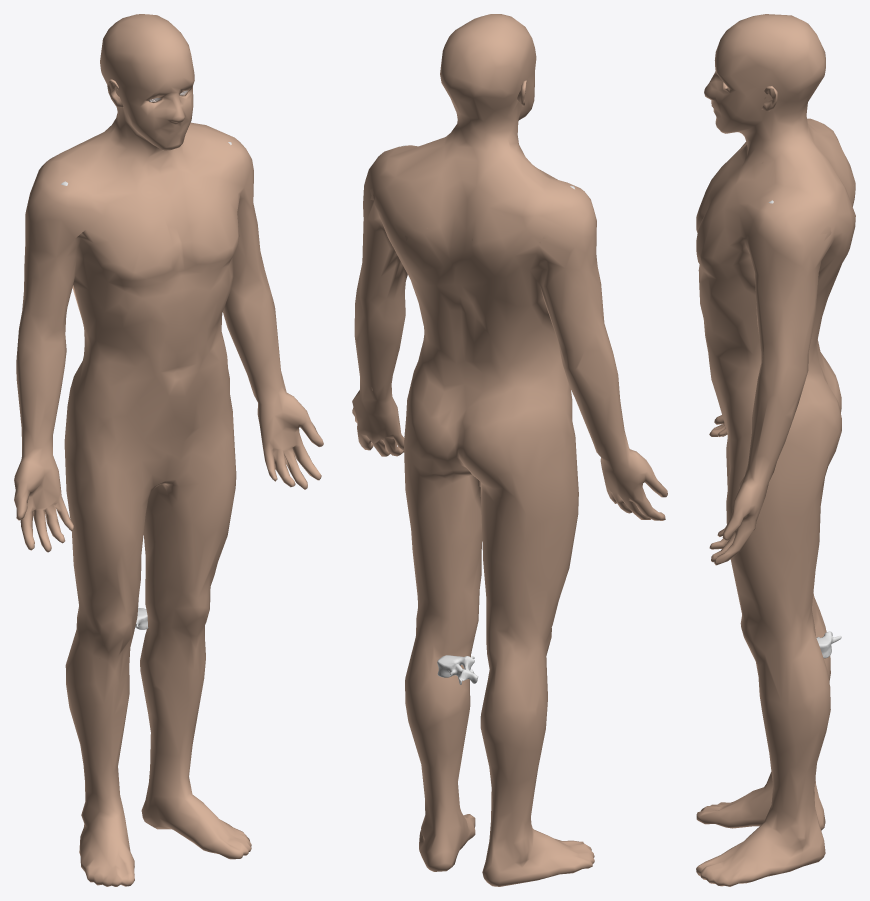
Rendered from 7_MODEL_KERANGKA.glb.
3 views of the same model, side by side, from view 1: azimuth 30°, elevation 25°; view 2: azimuth 150°, elevation 25°; view 3: azimuth 270°, elevation 25° (orthographic). The views are drawn at different scales.
Visible parts, largest first — view 1: Object_11.002; view 2: Object_11.002; view 3: Object_11.002.
Boxes of the visible parts, x1,y1,x2,y2 form: Object_11.002: (14,14,323,886); Object_11.002: (352,14,667,886); Object_11.002: (696,14,855,886).
Size of the model in its own units: 7.59 by 19.59 by 3.41.
